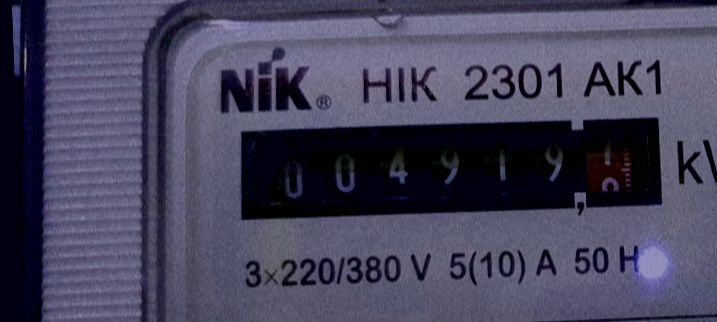0: (330, 148, 358, 194), (279, 155, 305, 200)
1: (493, 137, 509, 183)
4: (383, 141, 409, 185)
7: (593, 127, 618, 167)
9: (540, 138, 565, 185), (437, 143, 461, 187)
screen: (226, 101, 679, 237)
